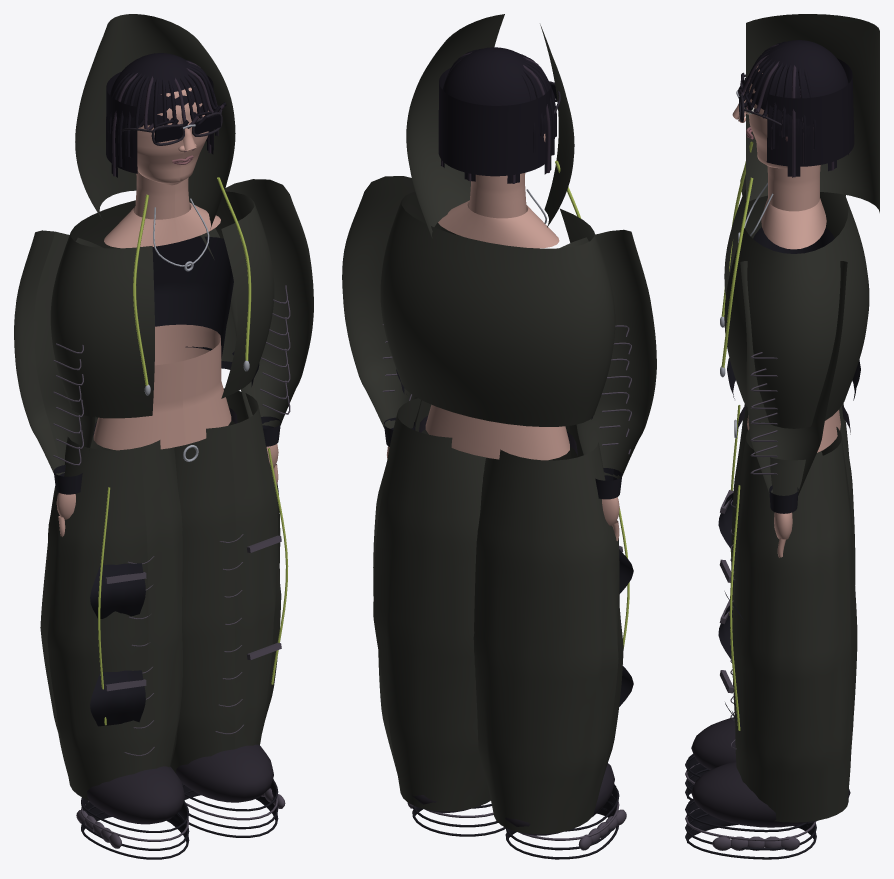
Rendered from look-3-detail.glb.
3 renders of one model, left to right at view 1: azimuth 30°, elevation 25°; view 2: azimuth 150°, elevation 25°; view 3: azimuth 270°, elevation 25°, orthographic. The views are drawn at different scales.
Visible parts, largest first — view 1: look-3-detail, leg-0, leg-1, arm-1, arm-0; view 2: look-3-detail, leg-0, leg-1, arm-0, arm-1; view 3: look-3-detail, leg-1, arm-1, leg-0.
Part boxes in pixels (x1,y1,x2,y2): look-3-detail: [50, 14, 274, 461]; leg-0: [40, 417, 189, 859]; leg-1: [170, 388, 288, 837]; arm-1: [200, 179, 313, 484]; arm-0: [14, 230, 103, 536]; look-3-detail: [380, 14, 615, 460]; leg-0: [473, 424, 633, 859]; leg-1: [373, 398, 505, 836]; arm-0: [559, 229, 656, 541]; arm-1: [342, 176, 457, 458]; look-3-detail: [720, 14, 879, 452]; leg-1: [685, 427, 857, 859]; arm-1: [740, 261, 847, 557]; leg-0: [685, 403, 855, 800].
Bounding box in the file's own units: 0.8164 × 2.08 × 0.4647.
